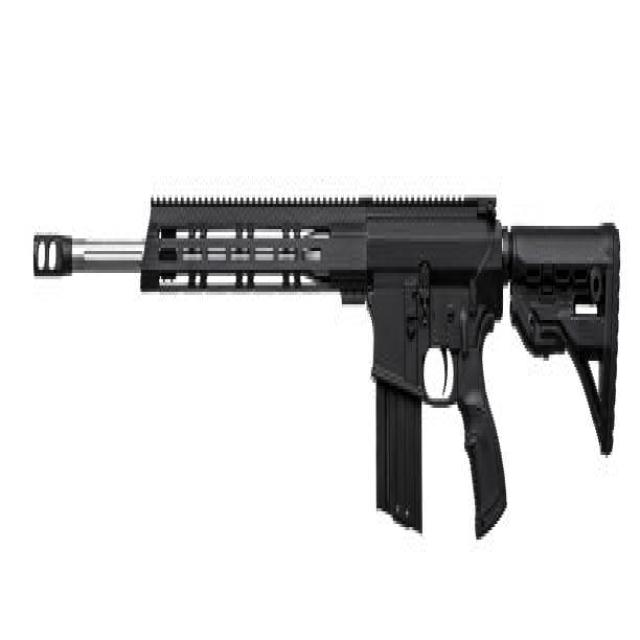rifle: (26, 169, 628, 563)
